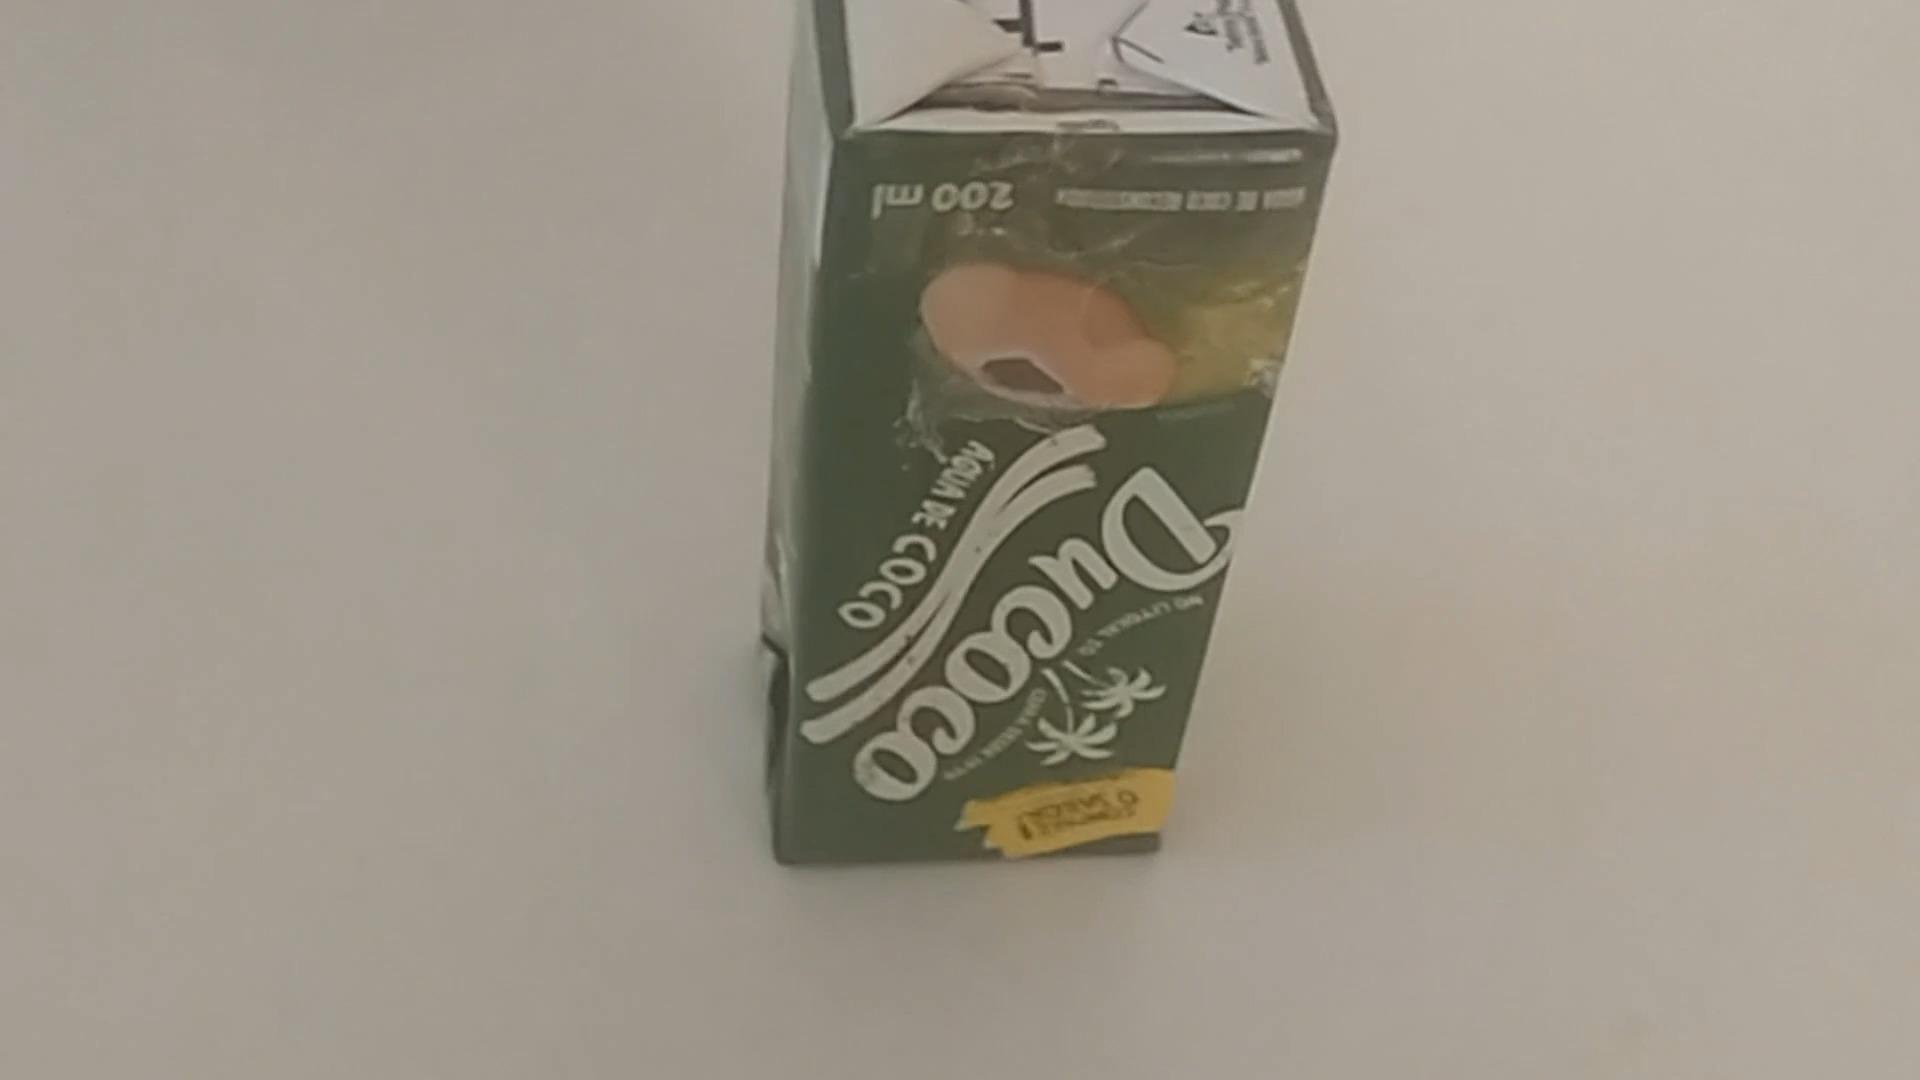coco: (757, 0, 1328, 868)
